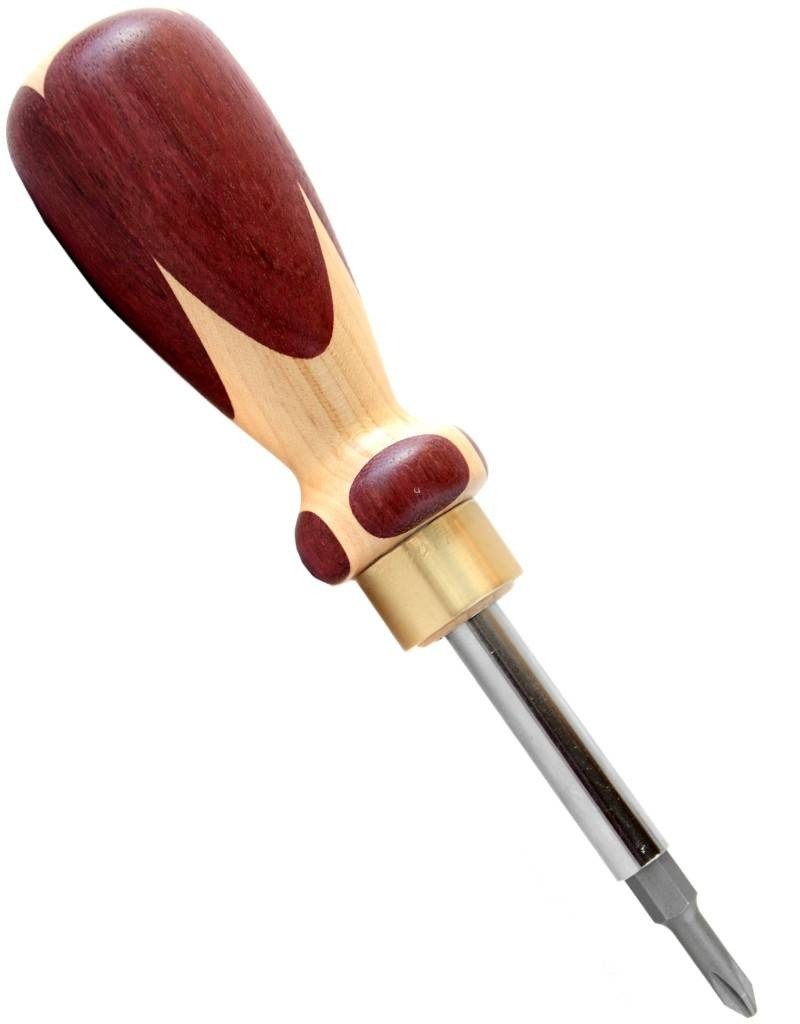screwdriver: (2, 10, 768, 1022)
